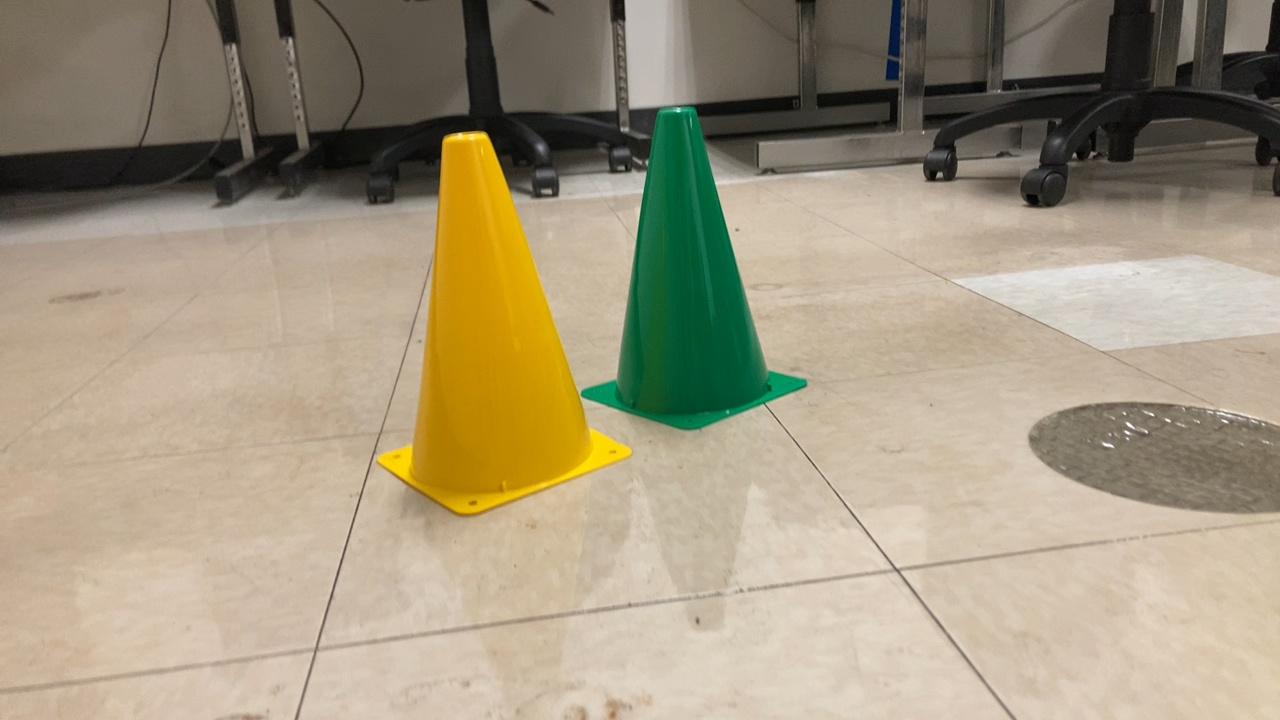green_cone: (579, 107, 812, 444)
yellow_cone: (367, 126, 634, 523)
